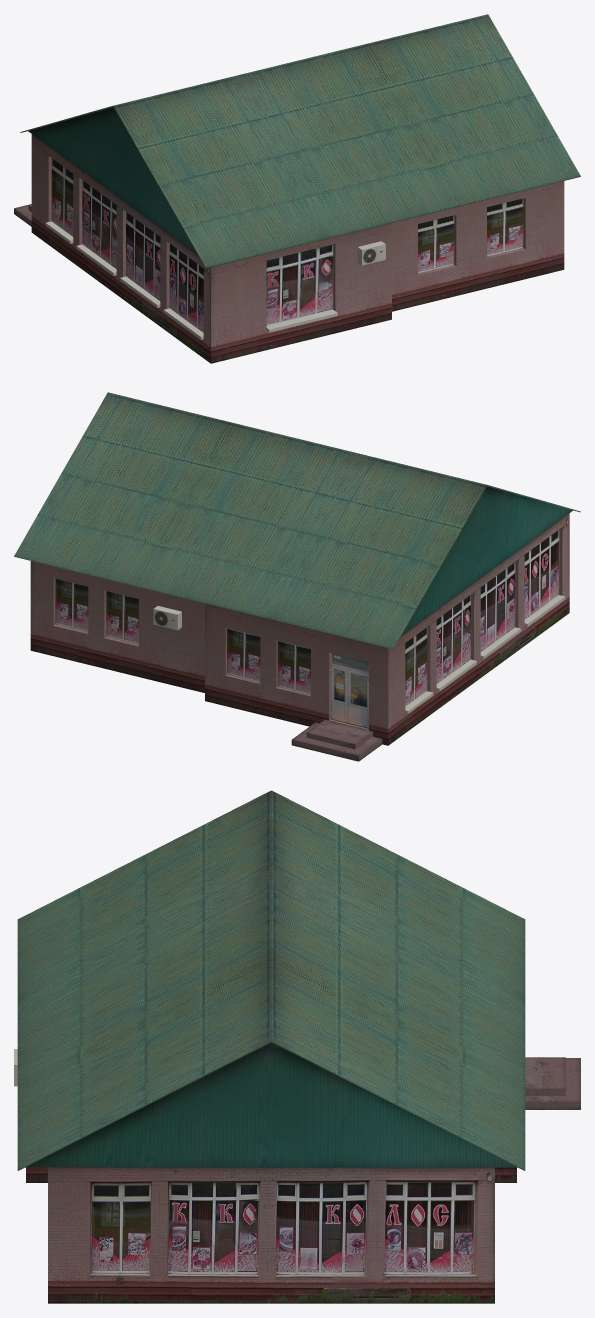
The model's file is r254_kafe_kolos.FBX.
3 views of the same model, one above another, from view 1: azimuth 30°, elevation 25°; view 2: azimuth 150°, elevation 25°; view 3: azimuth 270°, elevation 25° (orthographic). The views are drawn at different scales.
Parts seen in each view (by area): view 1: r254_kafe_kolos; view 2: r254_kafe_kolos; view 3: r254_kafe_kolos.
Part boxes in pixels (box(x1,y1,x2,y2)): r254_kafe_kolos: box(14, 14, 580, 363); r254_kafe_kolos: box(14, 392, 580, 761); r254_kafe_kolos: box(14, 790, 580, 1303).
Size of the model in its own units: 14.51 by 13.87 by 7.18.
